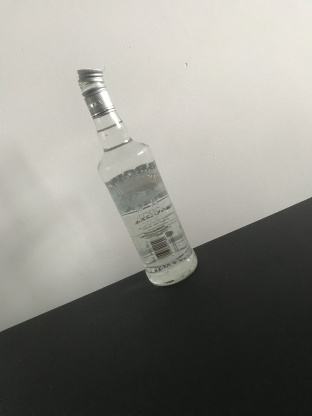nakretka: (75, 65, 116, 121)
